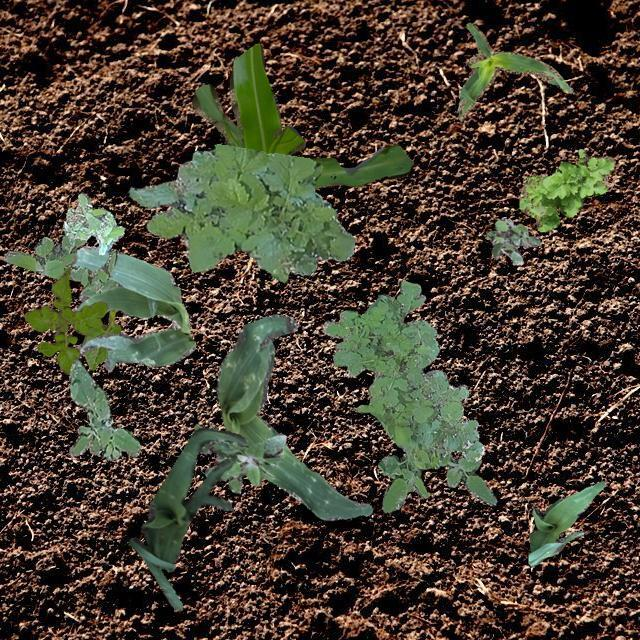crop: (216, 312, 372, 520), (190, 43, 412, 188), (127, 426, 245, 608), (70, 244, 194, 368), (458, 22, 572, 118), (528, 480, 604, 566), (82, 307, 120, 368)
weed: (128, 142, 354, 282), (322, 280, 484, 468), (22, 266, 108, 374), (518, 147, 614, 230), (68, 358, 140, 458), (2, 232, 116, 292), (194, 422, 286, 492), (62, 192, 124, 254), (377, 452, 428, 512), (438, 454, 496, 504), (485, 218, 539, 264)
